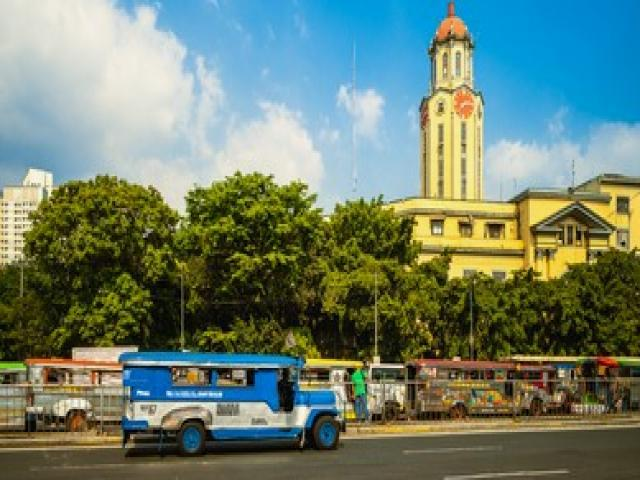jeepney: (114, 341, 352, 465), (406, 355, 567, 427), (22, 345, 123, 449)
